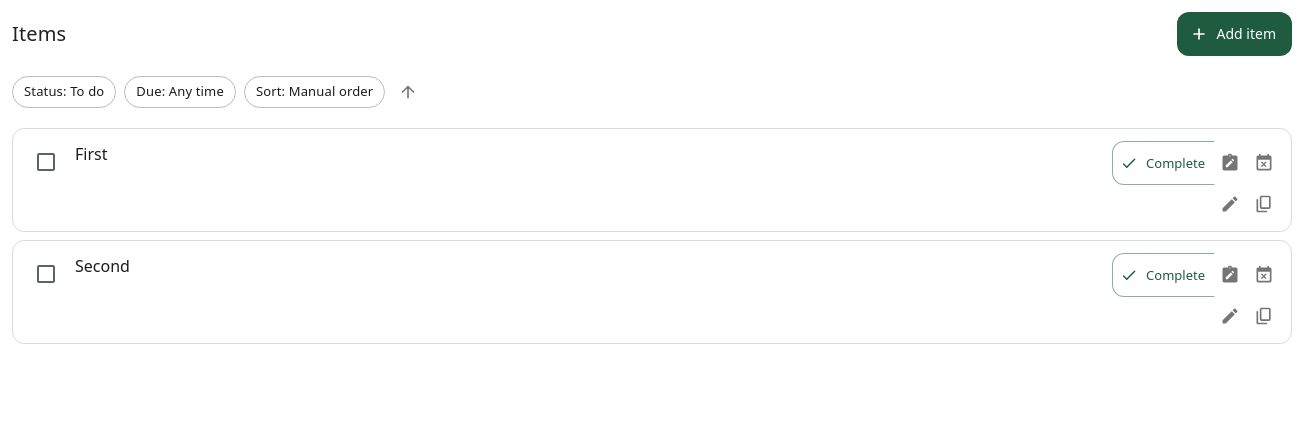
Test case: ItemsSection › takes the selected items for the member who asked
Step 1. Click the checkbox named "Select First" → (46, 162), box [34,150,58,174]
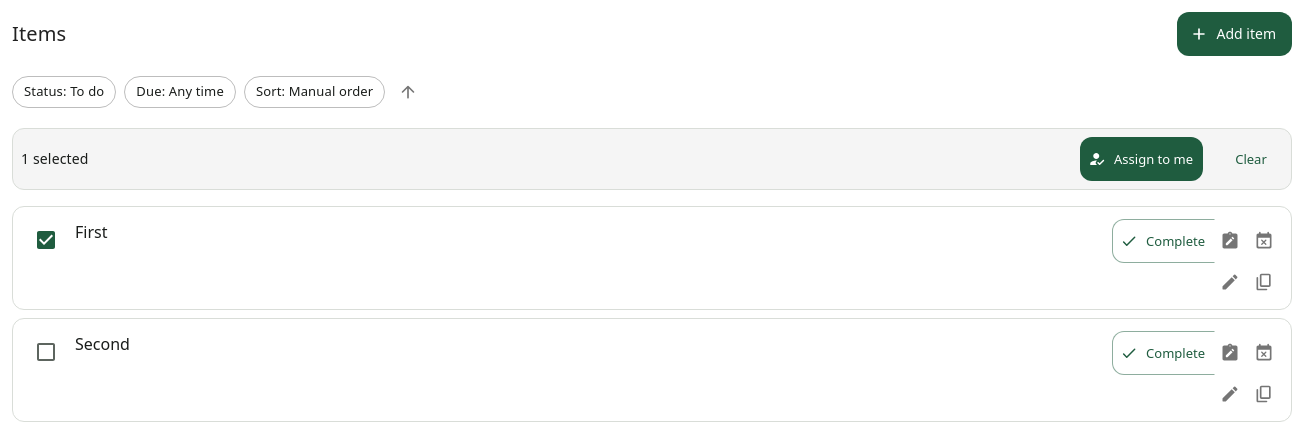
Step 2. Click the checkbox named "Select Second" → (46, 352), box [34,340,58,364]
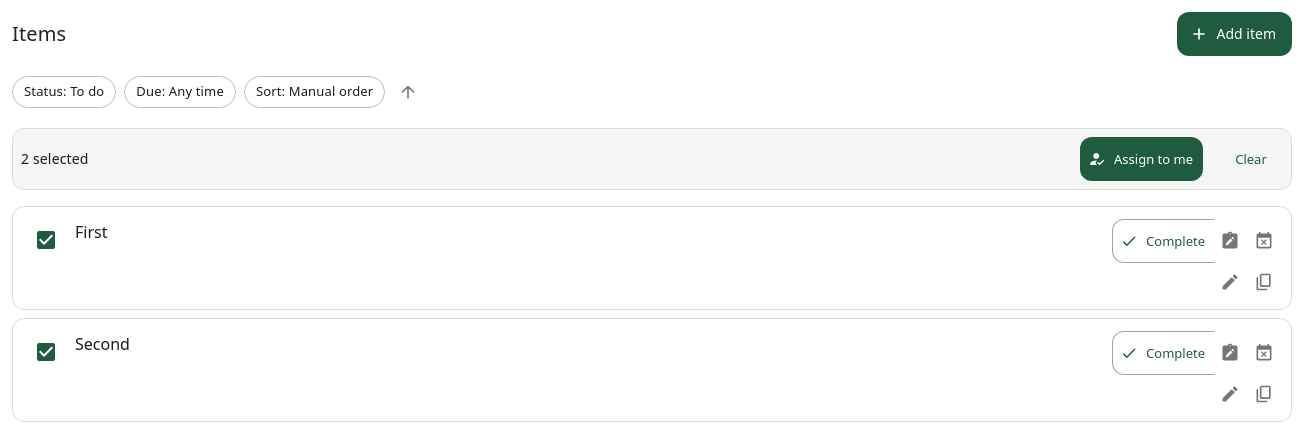
Now the text "2 selected" is shown, box [21,149,89,168]
Step 3. Click the button "Assign to me" → (1142, 159), box [1080,137,1203,181]
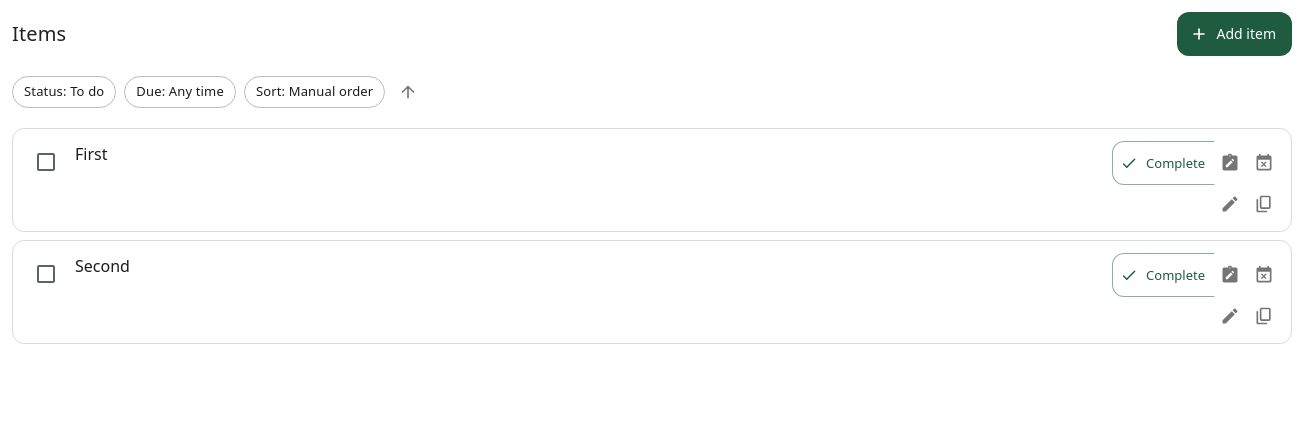
Now the text "selected" is gone
